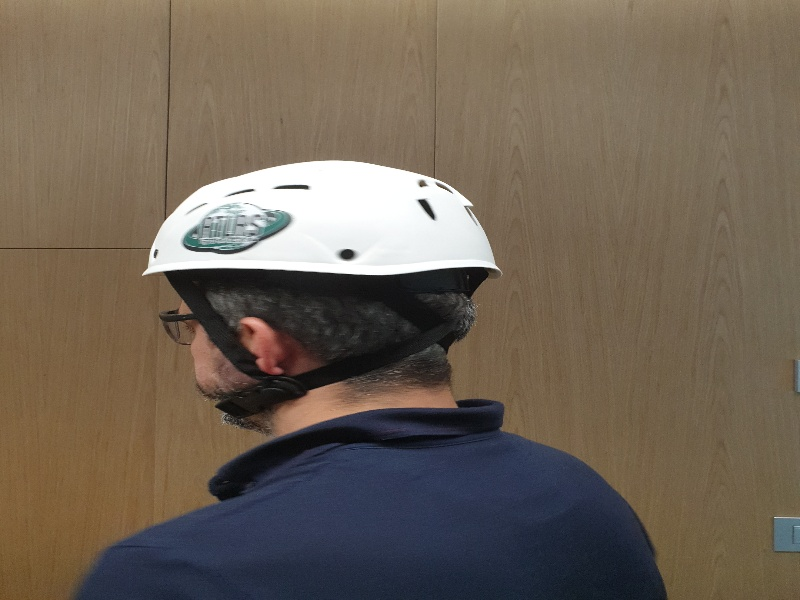Baret: (144, 157, 507, 278)
